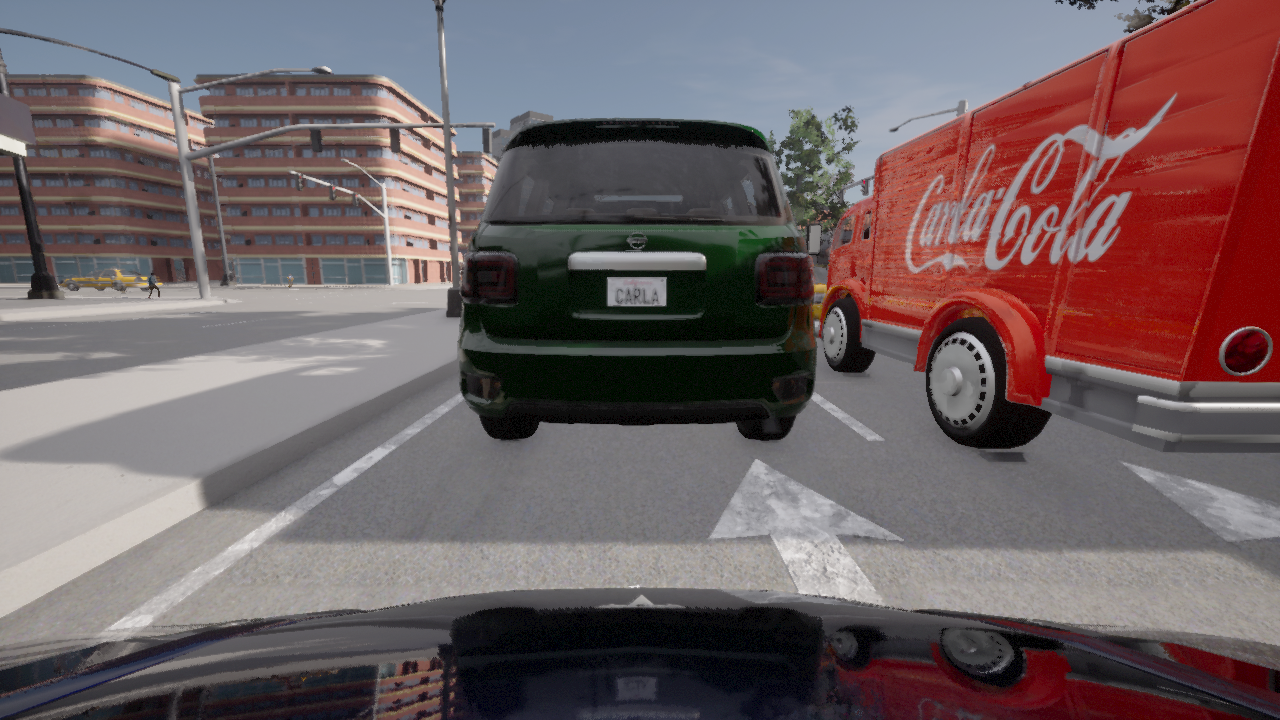cyclist: (805, 0, 1279, 452), (0, 588, 1279, 719), (457, 118, 816, 439), (58, 267, 162, 291), (813, 266, 827, 319)
pedestrian: (148, 272, 161, 298), (288, 273, 292, 285)
